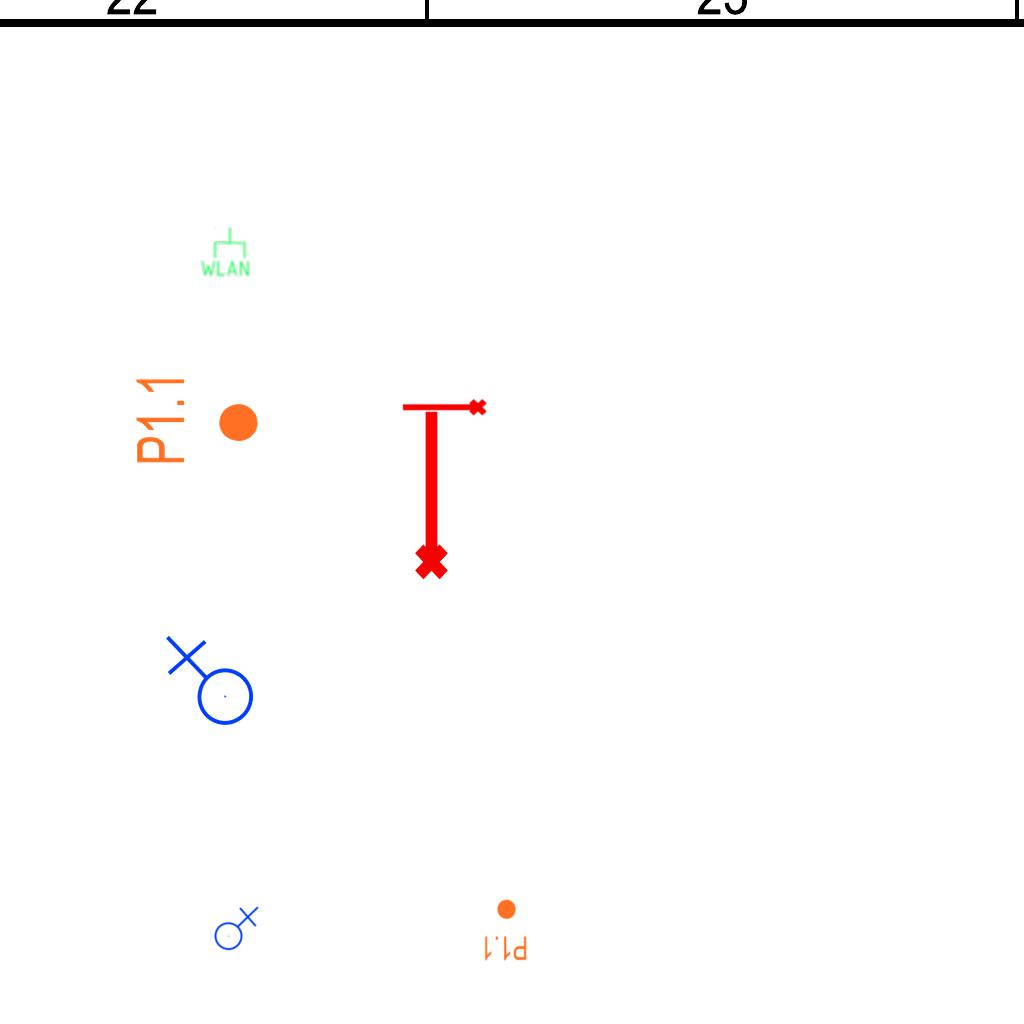ASR_Ansaugoeffnung: (406, 406, 452, 582), (400, 397, 488, 420)
Downlight_LED_Einbauleuchten_Flur: (133, 373, 261, 466), (482, 898, 528, 962)
Elektroanschluss_allgemein_230V_Geraeteanschlussdose_230V: (161, 635, 255, 734), (210, 904, 259, 951)
WLAN: (199, 226, 251, 278)
